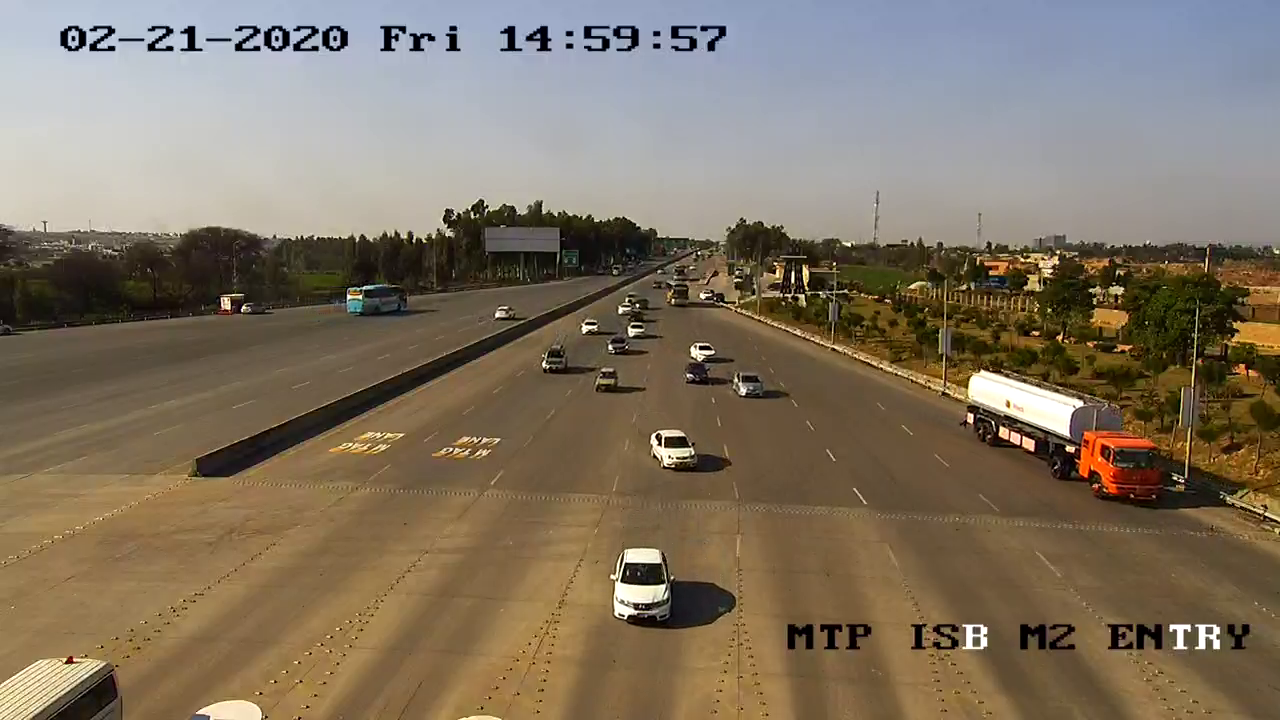f1: (605, 543, 677, 638), (635, 418, 706, 477)
f6: (955, 360, 1180, 526)
